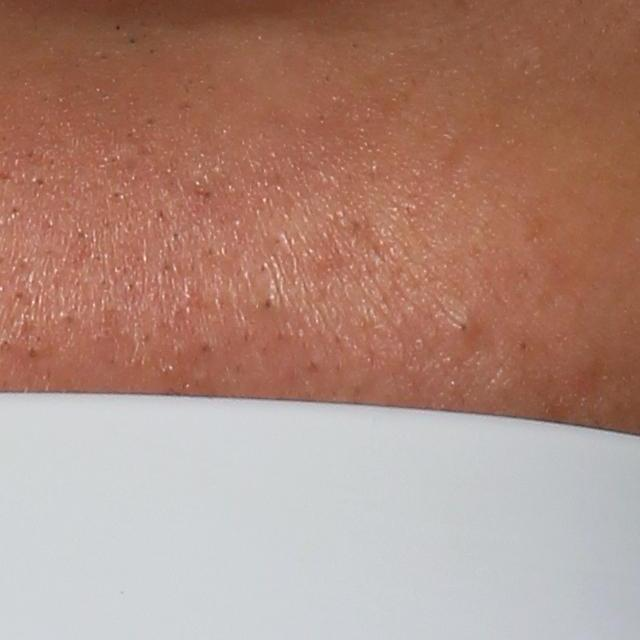comedo: (258, 291, 280, 316)
